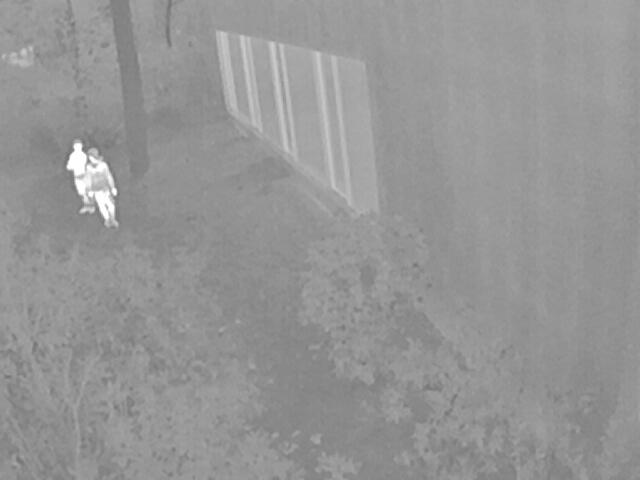person: (84, 147, 116, 227), (65, 140, 92, 210)
